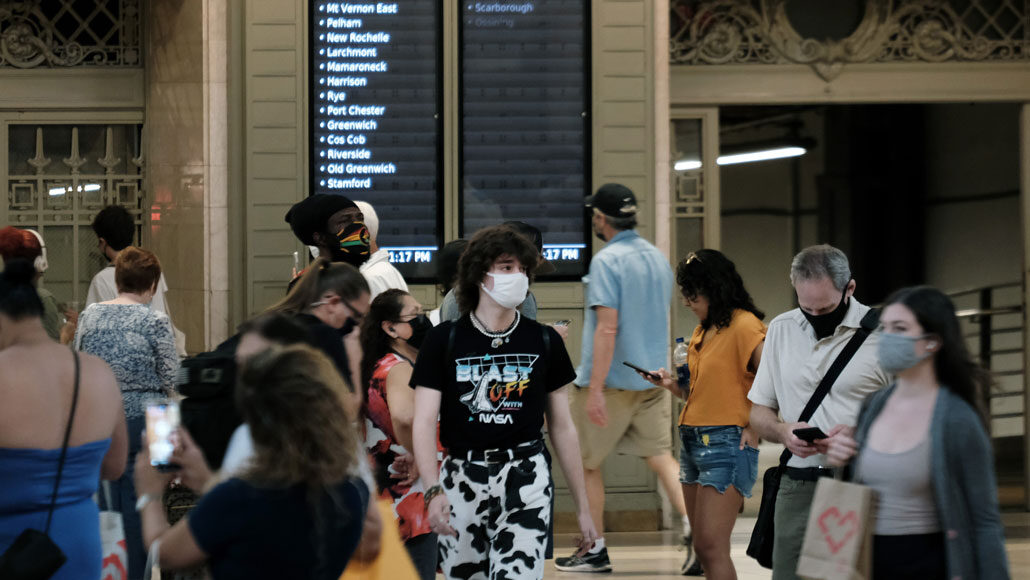with_mask: (877, 311, 926, 382), (324, 201, 371, 262), (487, 250, 531, 313), (800, 283, 849, 336)
